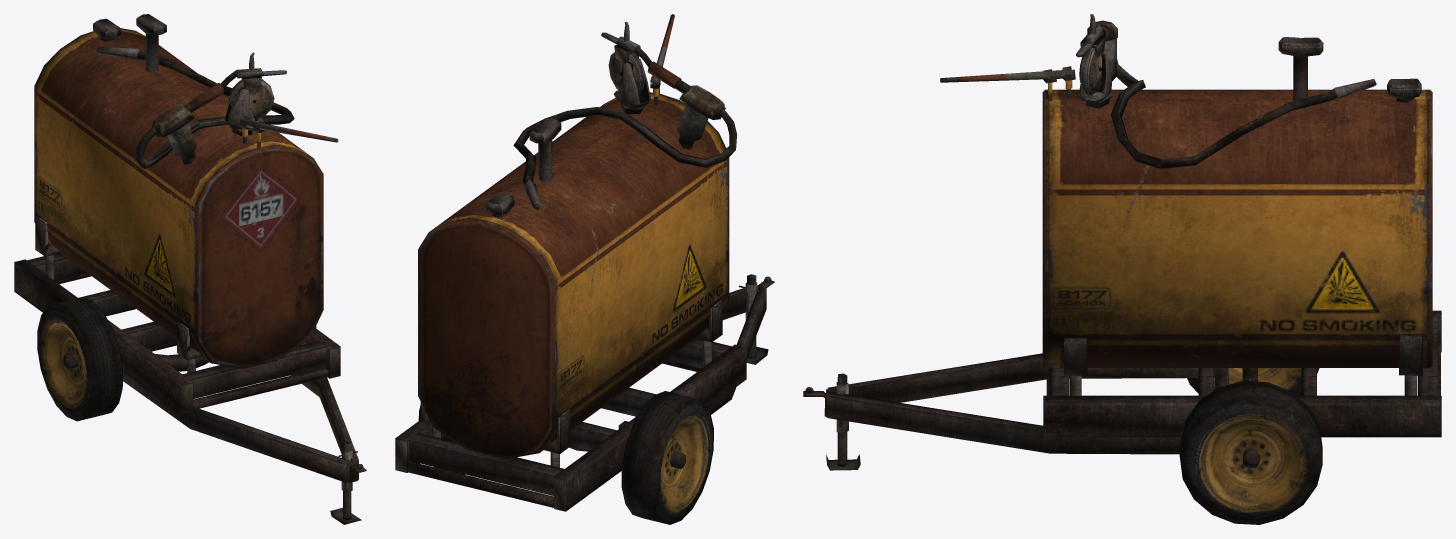
The model's file is FuelTank.obj.
3 views of the same model, side by side, from view 1: azimuth 30°, elevation 25°; view 2: azimuth 150°, elevation 25°; view 3: azimuth 270°, elevation 25° (orthographic). The views are drawn at different scales.
Parts seen in each view (by area): view 1: FuelTank; view 2: FuelTank; view 3: FuelTank.
Boxes of the visible parts, <box> form: FuelTank: <box>14,14,366,524</box>; FuelTank: <box>395,14,774,524</box>; FuelTank: <box>803,14,1441,524</box>.
Size of the model in its own units: 2.79 by 4.62 by 5.84.
